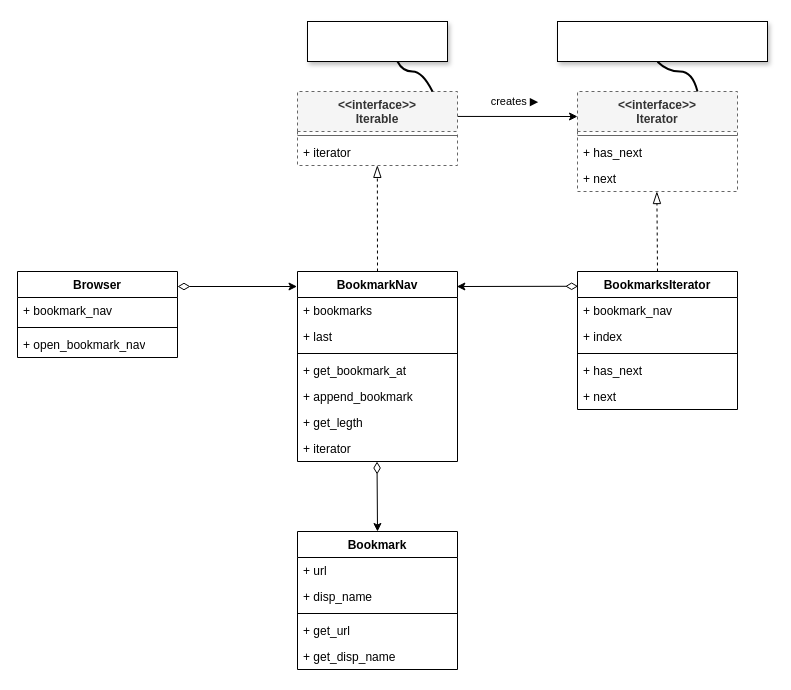
The diagram is 791 pixels wide and 690 high, and some of its shapes have lost their labels. The centre of each missing label's shape, as x and y in pixels:
"処理を繰り返す反復子を表す interface" goes at point (663, 42).
"集合体を表す interface" goes at point (378, 42).
